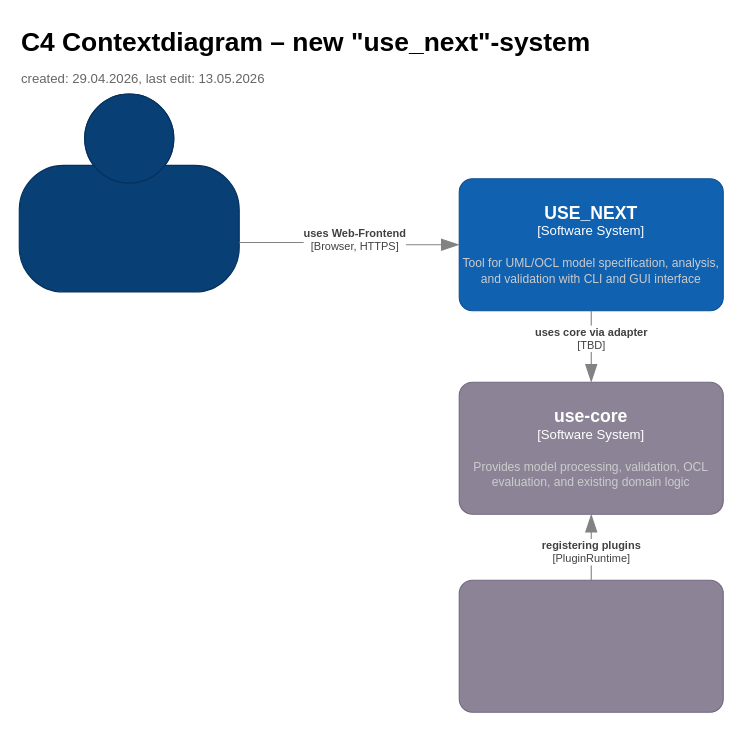
The diagram is 743 pixels wide and 732 high, and some of its shapes have lost their labels. The shapes that lost their labels are listed below. From the top down, each one's centre as x and y in pixels, then its label:
point 128,192: Modeler / Analyst [Person] Operating "USE_NEXT"
point 590,645: USE Plugin(s) [Software System] Optional plugins extending USE functionality
